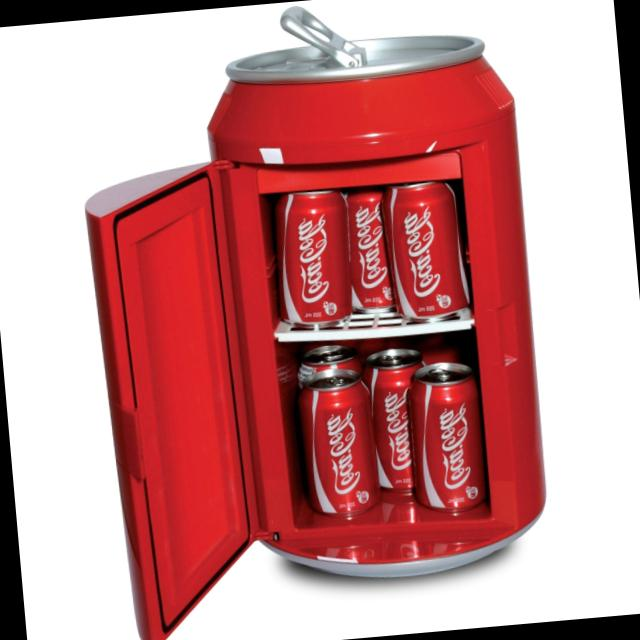cocacola: (402, 352, 498, 518), (382, 178, 472, 322), (265, 180, 352, 328), (288, 334, 372, 484), (297, 364, 378, 514), (361, 341, 435, 497), (335, 184, 402, 328)
